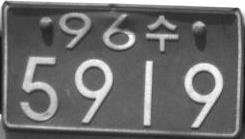1: (129, 60, 165, 126)
5: (19, 56, 58, 121)
6: (102, 13, 136, 50)
9: (73, 57, 113, 124), (184, 60, 223, 128), (58, 11, 91, 48)
수: (145, 15, 179, 51)
